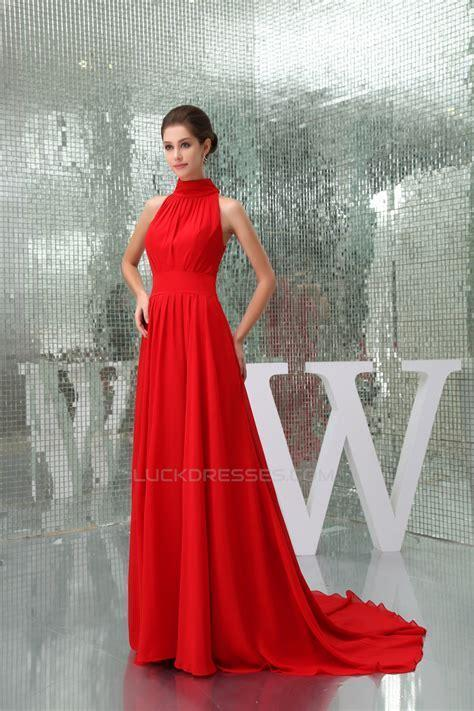dress: (128, 179, 426, 685)
